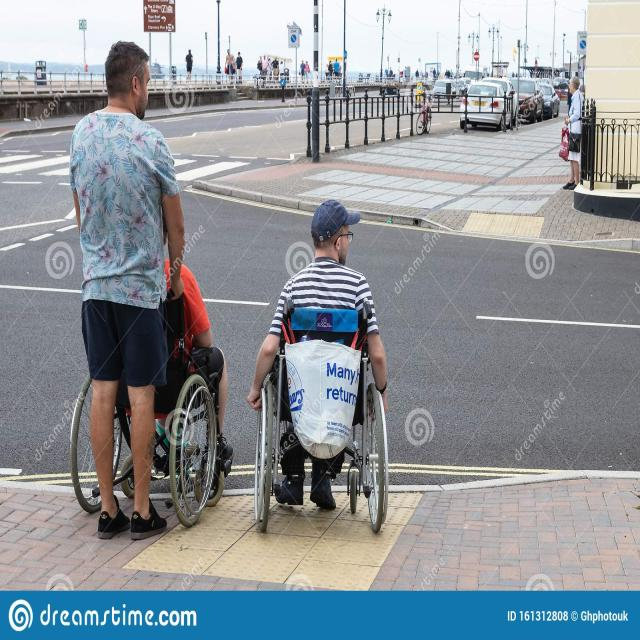wheelchairs: (252, 339, 396, 541), (166, 316, 225, 534)
